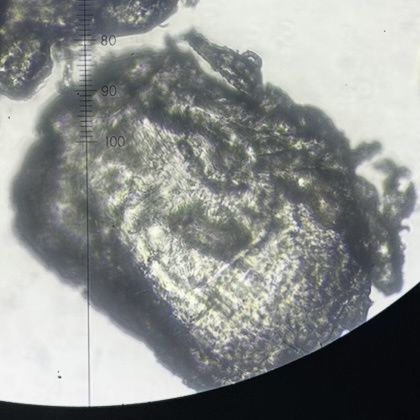microplastic: (6, 29, 382, 394), (1, 1, 203, 102), (339, 139, 419, 297), (178, 25, 267, 105)
